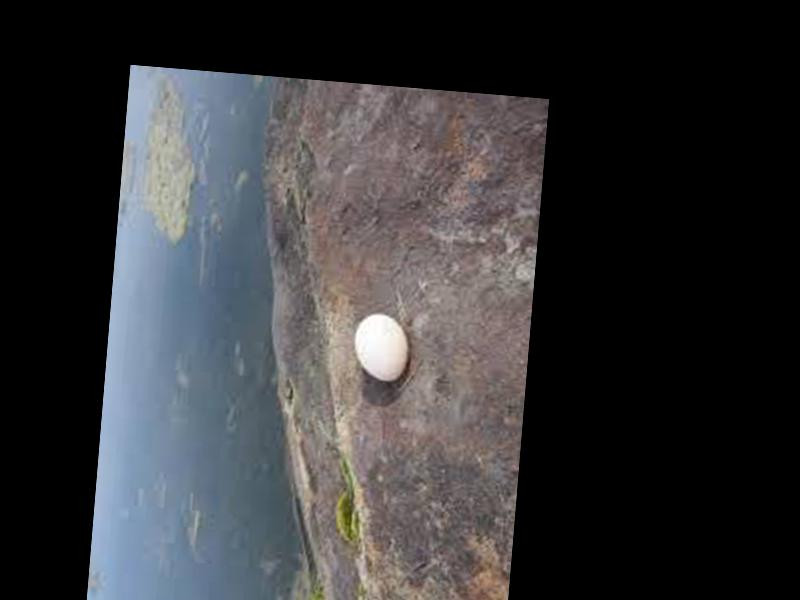Eggs: (350, 308, 410, 381)
